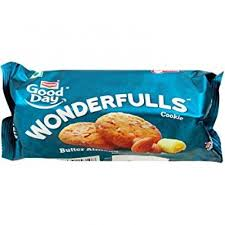gooday-small: (3, 60, 223, 164)
